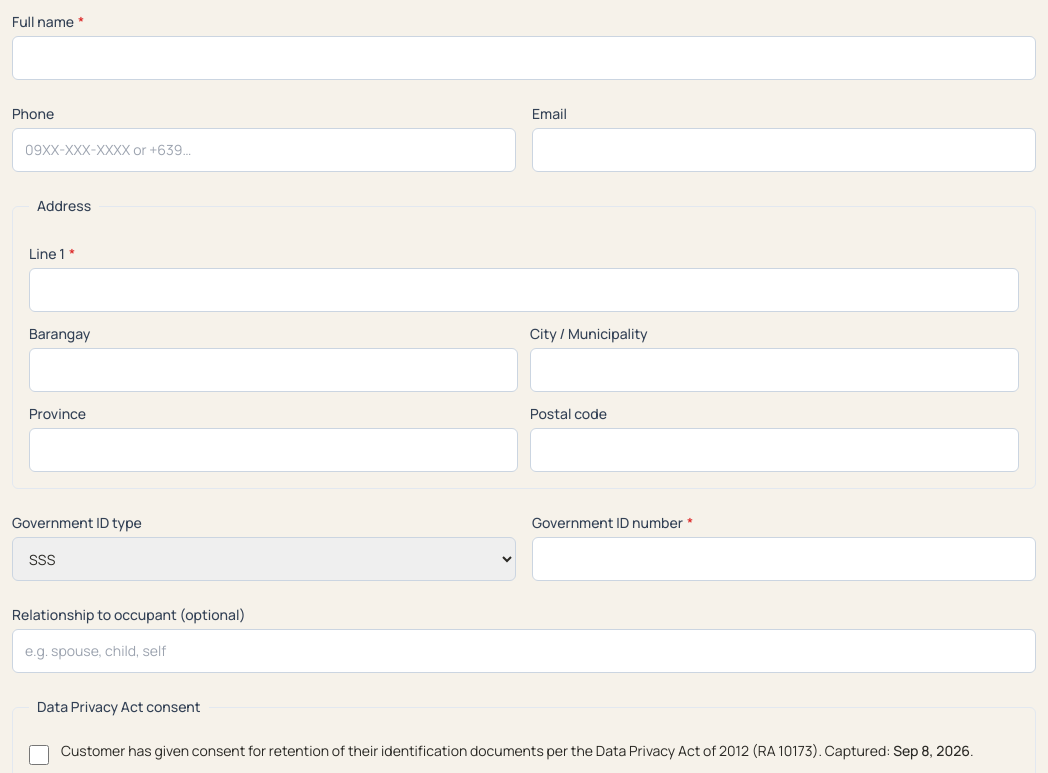
Test: CustomerForm — gov-ID masking (UX §1875–1886) › masks the field on blur as `•••• •••• LAST4`
Type "1234-5678-9012" into the field labelled "Government ID number*" at (784, 559), box [532,537,1036,581]
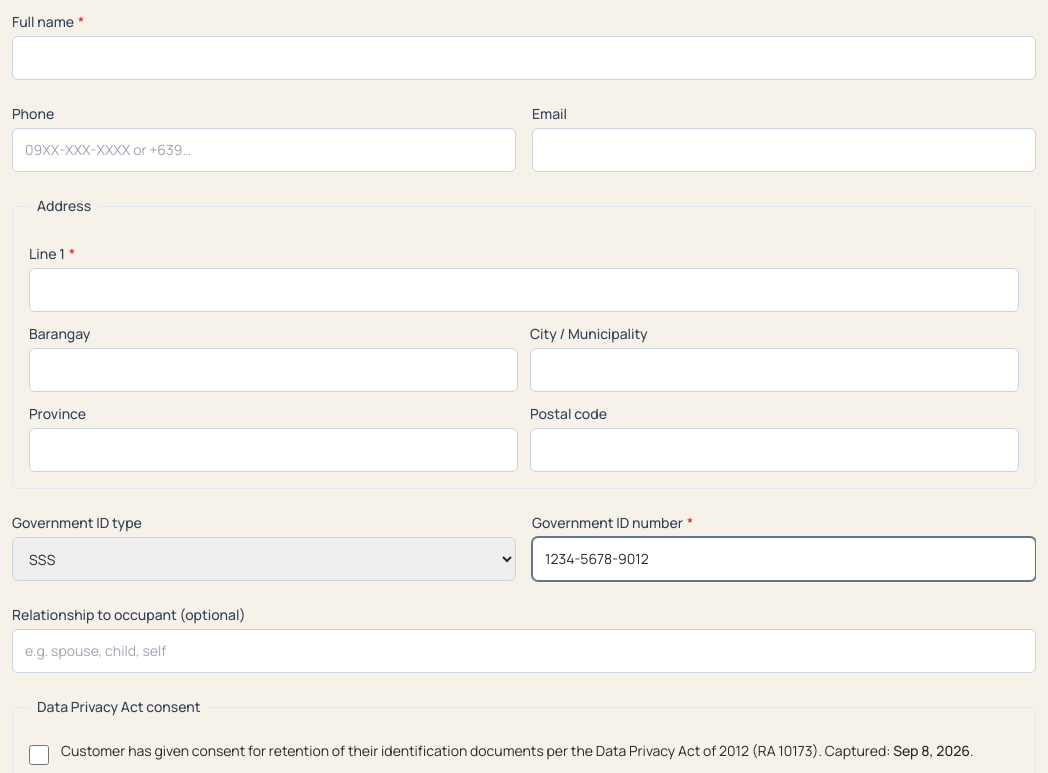
// Tab away to blur the field — masking kicks in.
Press Tab
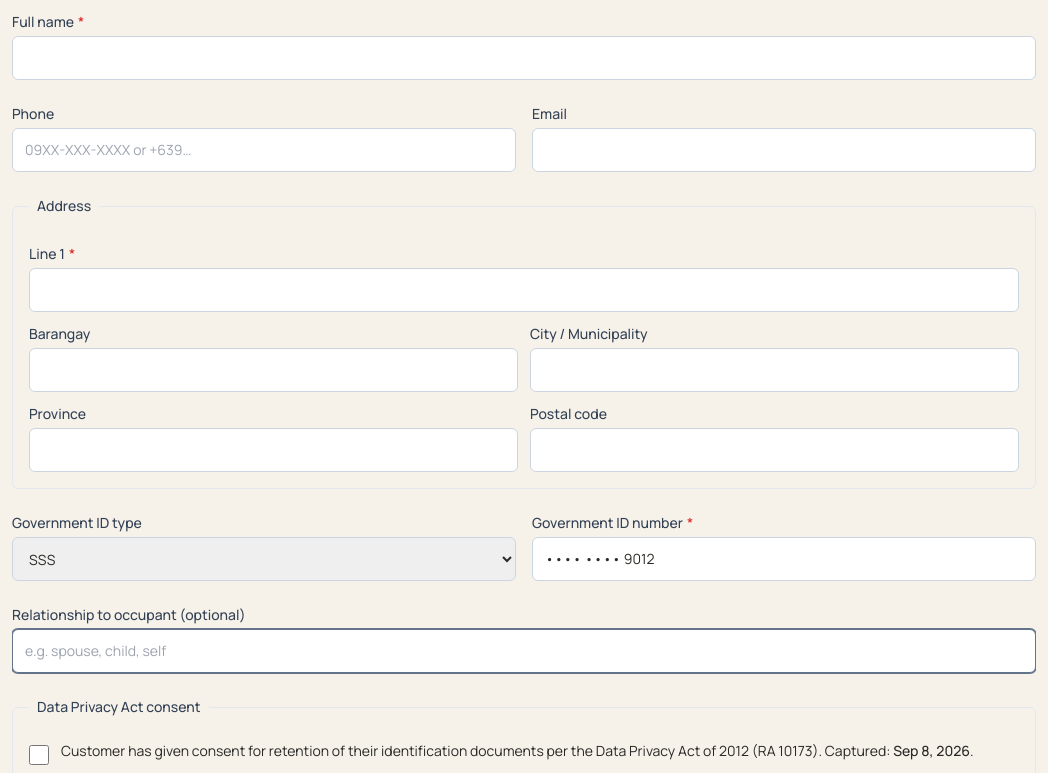
Now the field labelled "Government ID number*" holds "•••• •••• 9012", box [532,537,1036,581]
